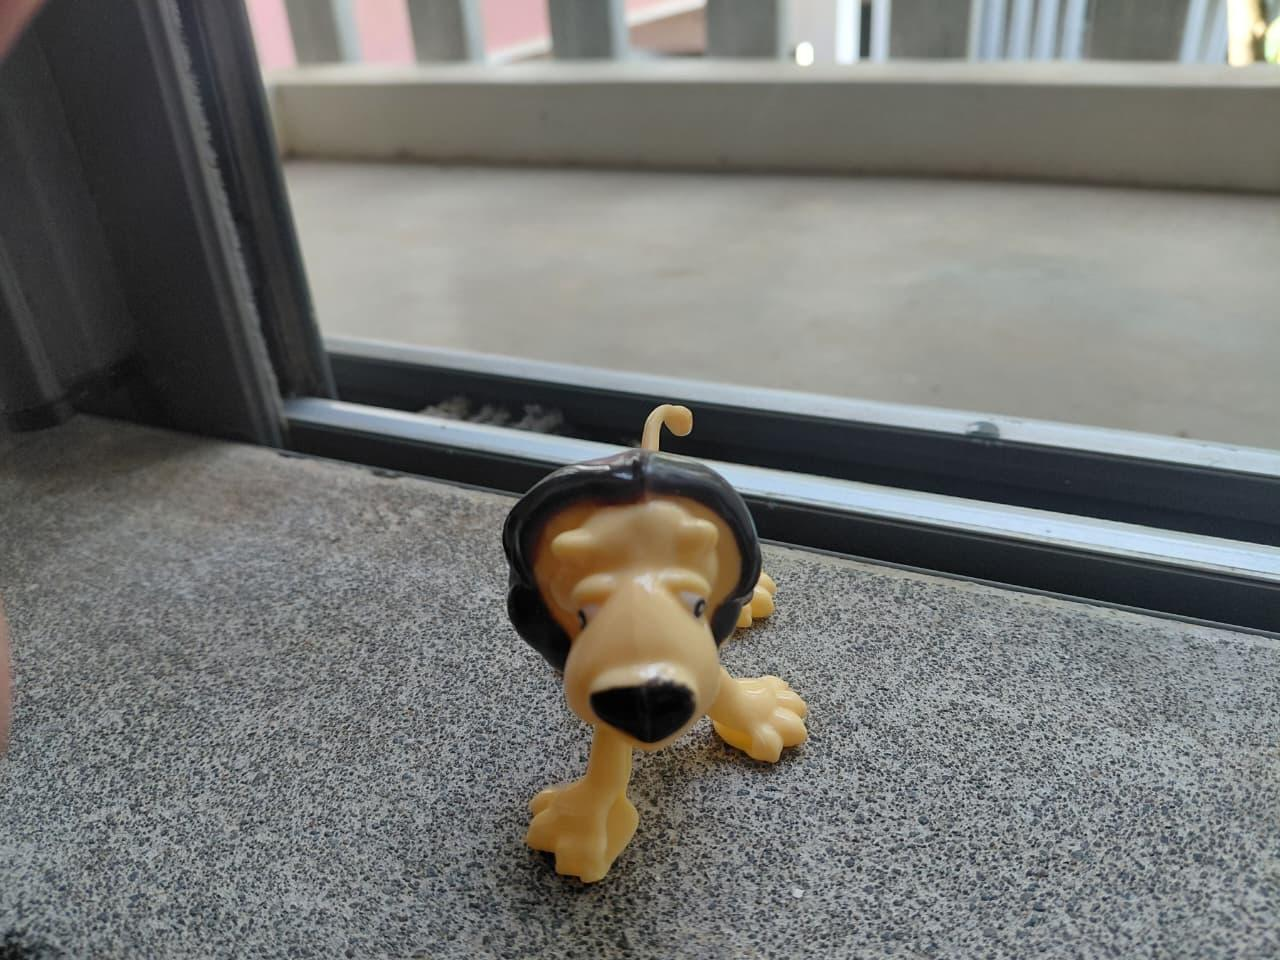lion: (458, 384, 863, 902)
